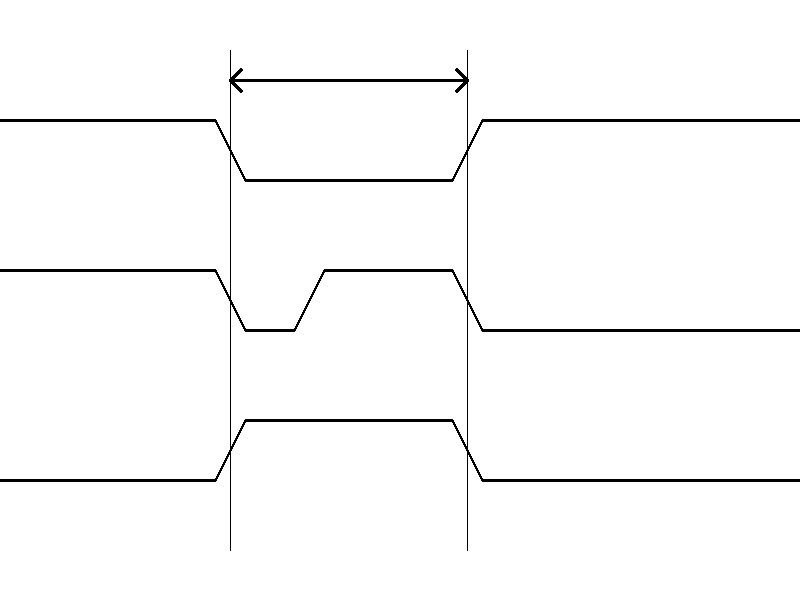double_arrow: (230, 65, 467, 95)
